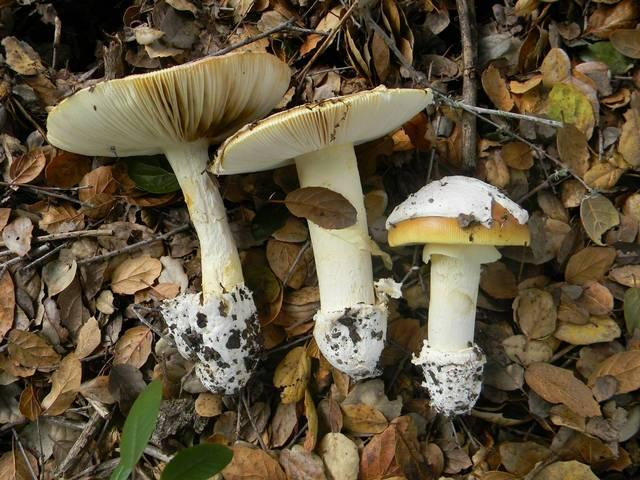Edible Mushroom: (44, 49, 292, 395), (207, 83, 434, 379), (385, 173, 531, 417)
